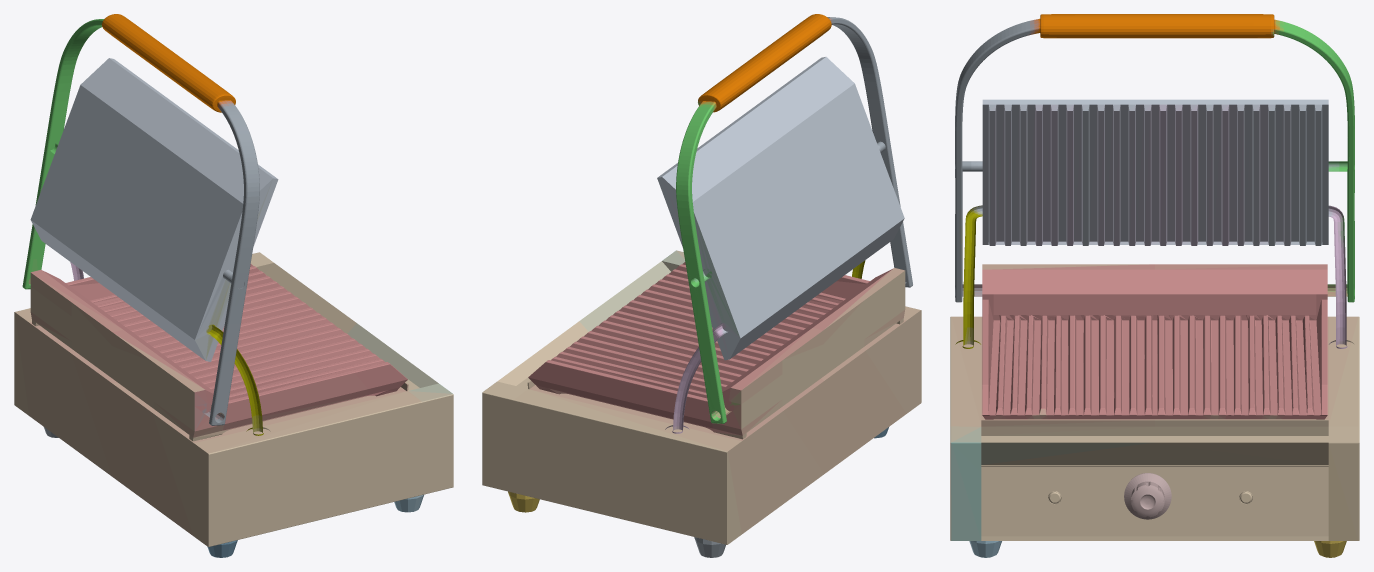
3 views of the same model, side by side, from view 1: azimuth 30°, elevation 25°; view 2: azimuth 150°, elevation 25°; view 3: azimuth 270°, elevation 25° (orthographic). The views are drawn at different scales.
Visible parts, largest first — view 1: world; view 2: world; view 3: world.
Boxes of the visible parts, x1,y1,x2,y2 form: world: (14, 14, 453, 557); world: (482, 14, 921, 557); world: (950, 14, 1359, 557).
Size of the model in its own units: 0.6282 by 0.9959 by 0.8114.
